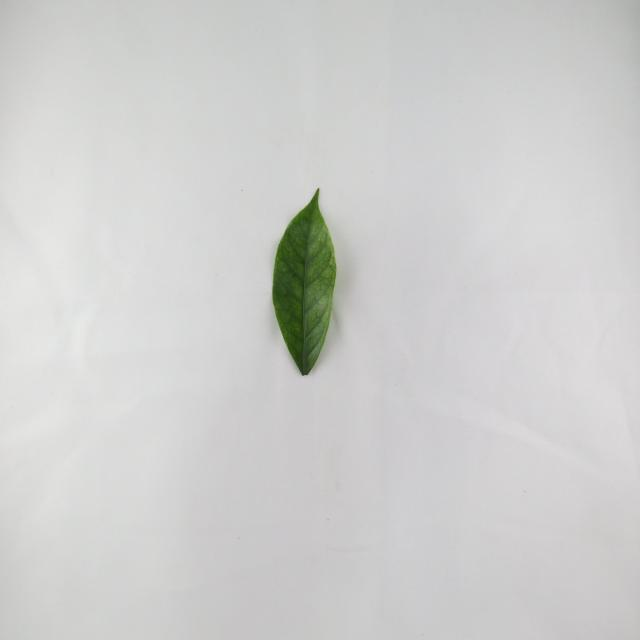DeficienciaNutricional-Manganeso: (272, 188, 336, 375)
